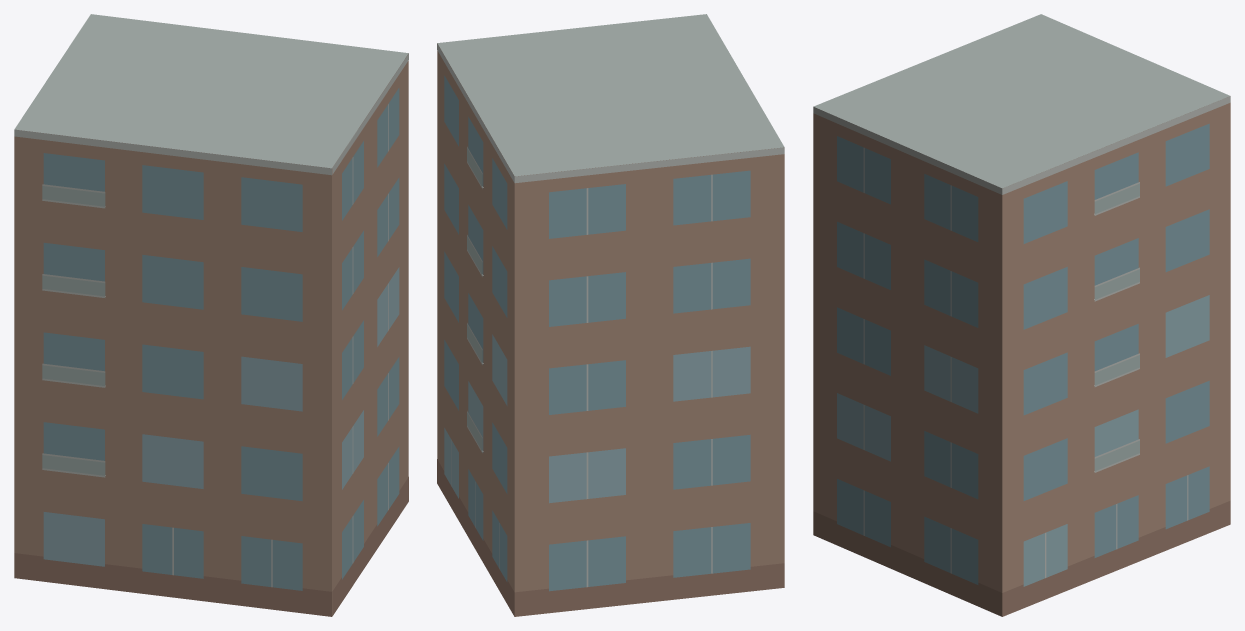
File: survey-upis-32855460.glb
3 renders of one model, left to right at view 1: azimuth 30°, elevation 25°; view 2: azimuth 150°, elevation 25°; view 3: azimuth 270°, elevation 25°, orthographic. The views are drawn at different scales.
Visible parts, largest first — view 1: survey-upis-32855460.tmp; view 2: survey-upis-32855460.tmp; view 3: survey-upis-32855460.tmp.
Part boxes in pixels (x1,y1,x2,y2): survey-upis-32855460.tmp: (14,14,408,616); survey-upis-32855460.tmp: (437,14,784,616); survey-upis-32855460.tmp: (813,14,1230,616).
Size of the model in its own units: 13.8 by 15.8 by 13.95.
